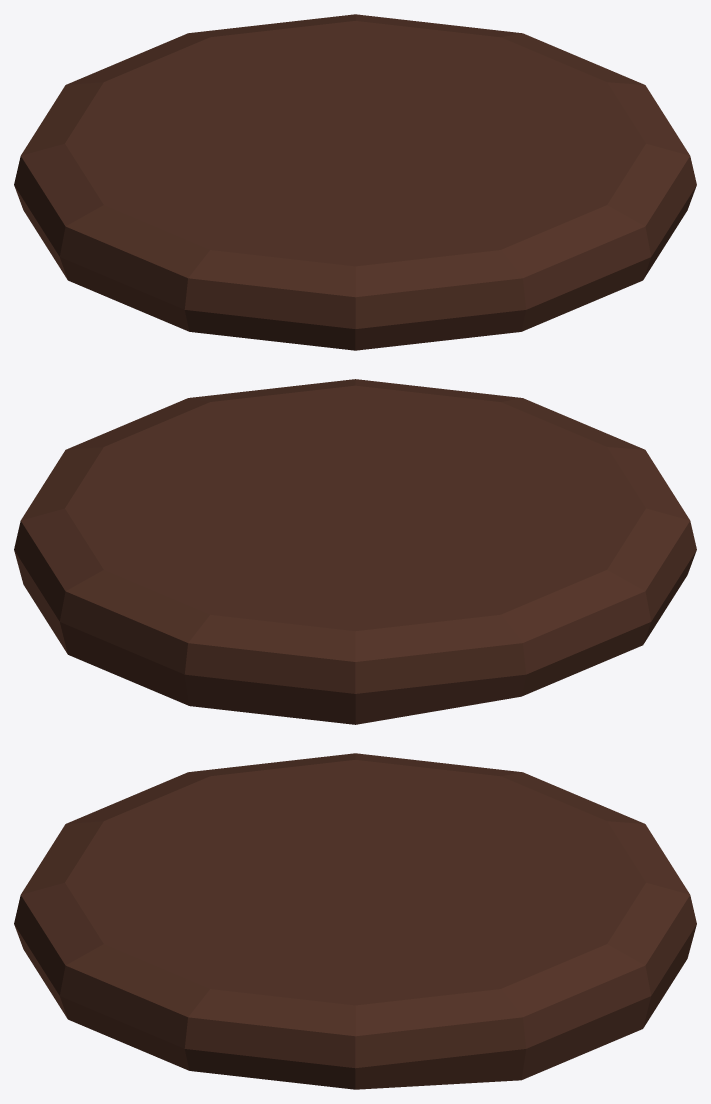
Rendered from pattyCooked.fbx.
3 views of the same model, one above another, from view 1: azimuth 30°, elevation 25°; view 2: azimuth 150°, elevation 25°; view 3: azimuth 270°, elevation 25° (orthographic).
Parts seen in each view (by area): view 1: Cylinder; view 2: Cylinder; view 3: Cylinder.
Part boxes in pixels (x1,y1,x2,y2): Cylinder: (14,14,696,350); Cylinder: (14,379,696,724); Cylinder: (14,753,696,1089).
Size of the model in its own units: 189 by 25.31 by 189.
